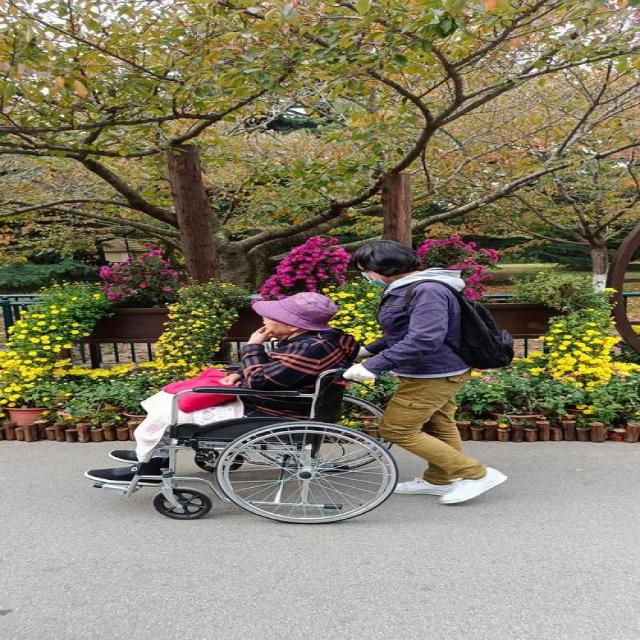wheelchairs: (75, 348, 422, 532)
